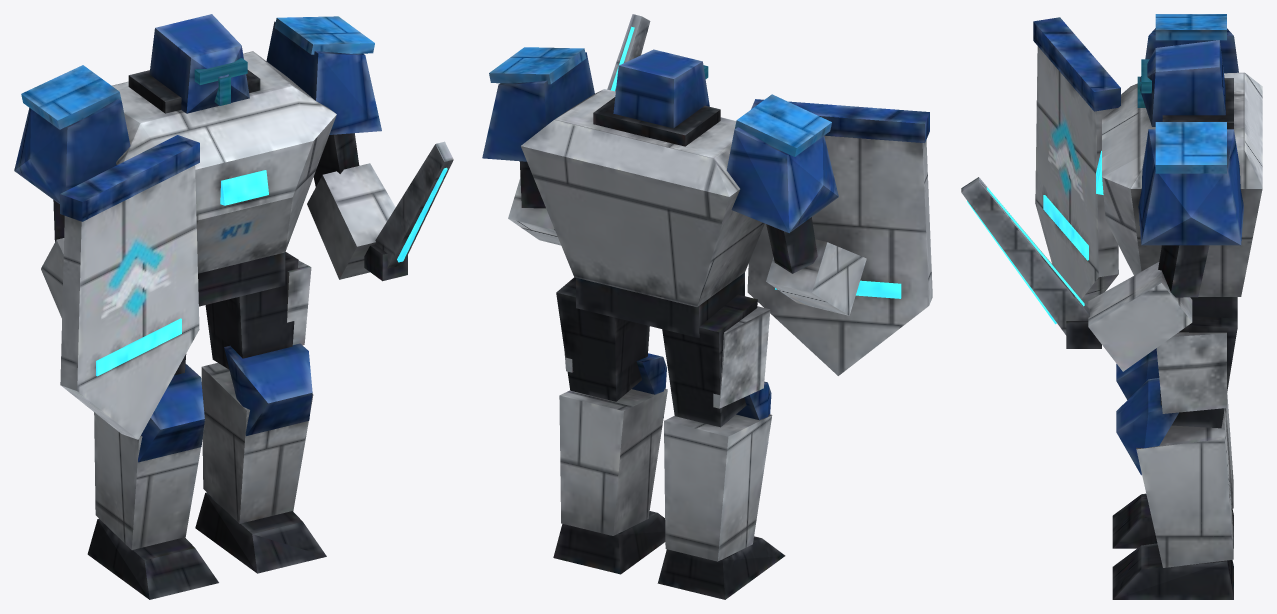
The model's file is u_warden1_w.glb.
The picture shows the model from 3 angles, left to right: view 1: azimuth 30°, elevation 25°; view 2: azimuth 150°, elevation 25°; view 3: azimuth 270°, elevation 25°; orthographic projection. The views are drawn at different scales.
Visible parts, largest first — view 1: u_warden1_w; view 2: u_warden1_w; view 3: u_warden1_w.
Part boxes in pixels (x1,y1,x2,y2): u_warden1_w: [14, 14, 453, 599]; u_warden1_w: [482, 14, 932, 599]; u_warden1_w: [961, 14, 1262, 599].
Bounding box in the file's own units: 1.18 × 1.56 × 0.8444.
Materials: 1 (1 with a texture image).
